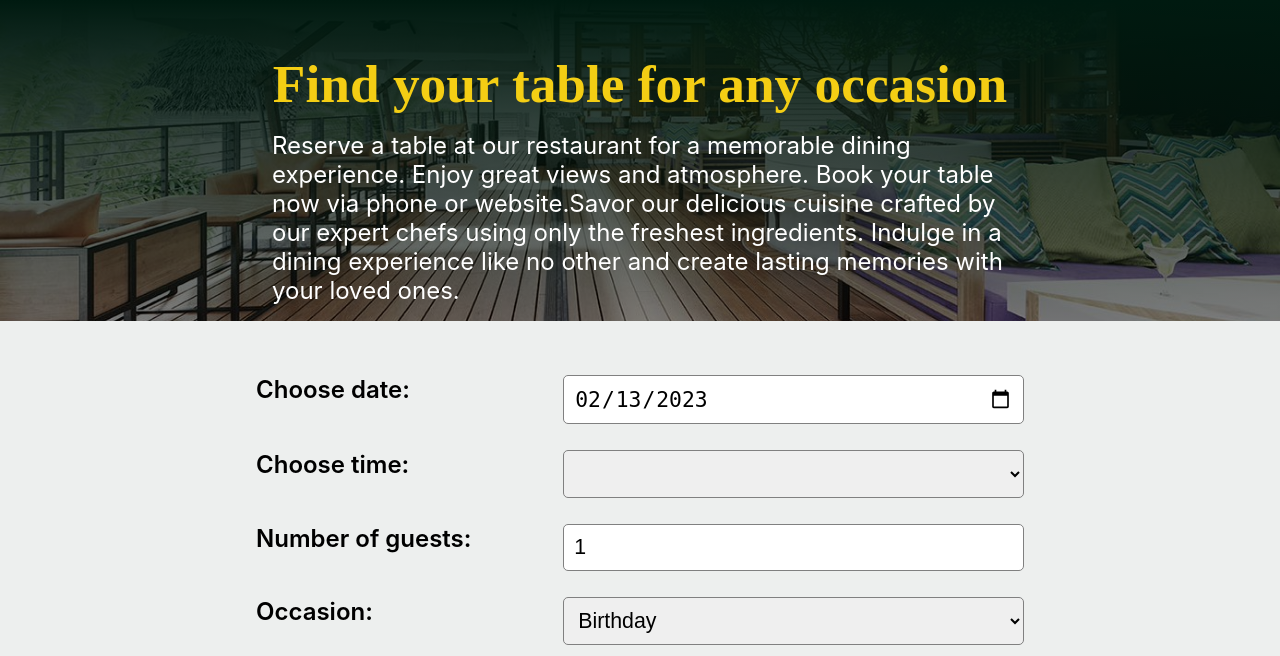
Test: displays error message for guests outside range
The width and height of the screenshot is (1280, 656).
Replace the text in the number field with test id "guests" with "0" at (794, 548), box [563,524,1024,571]
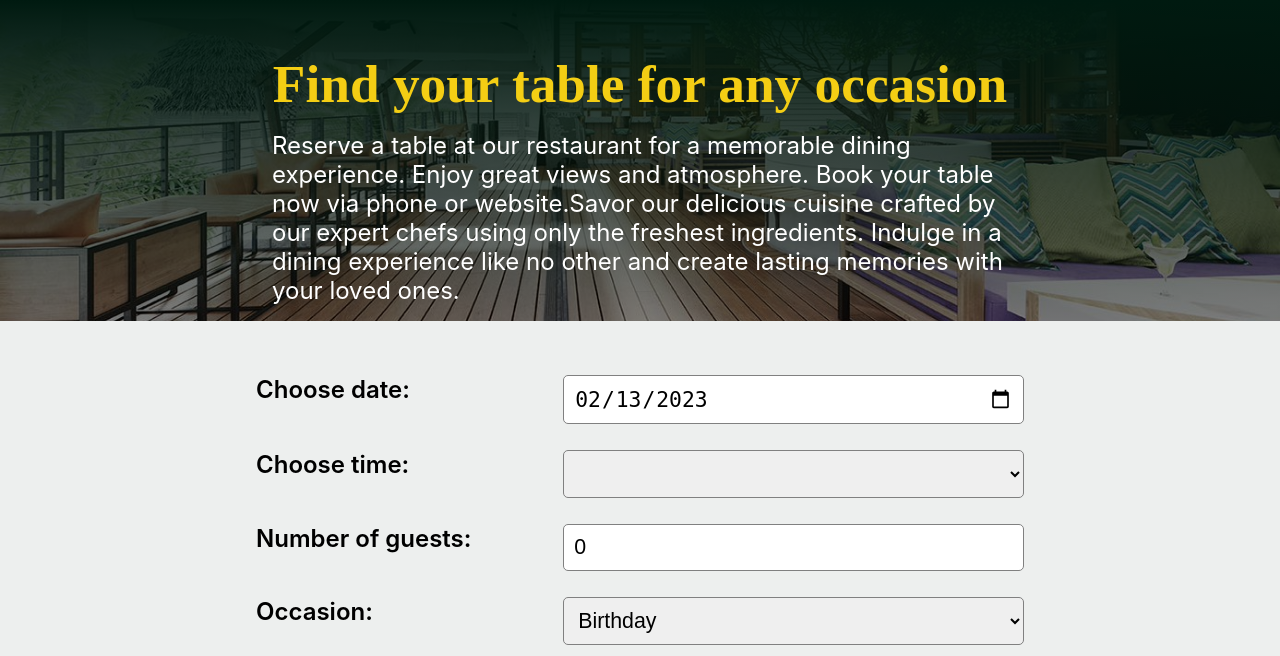
Leave the number field with test id "guests", box [563,524,1024,571]
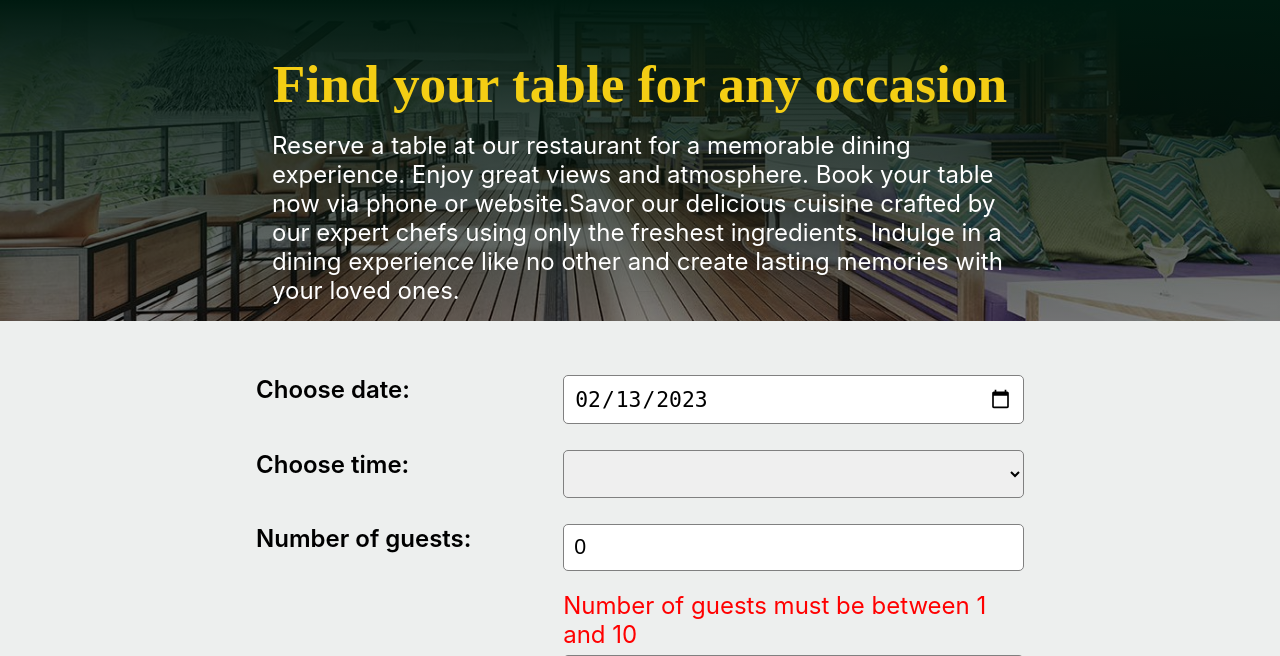
Now the text "Number of guests must be between 1 and 10" is shown, box [563,591,986,649]
